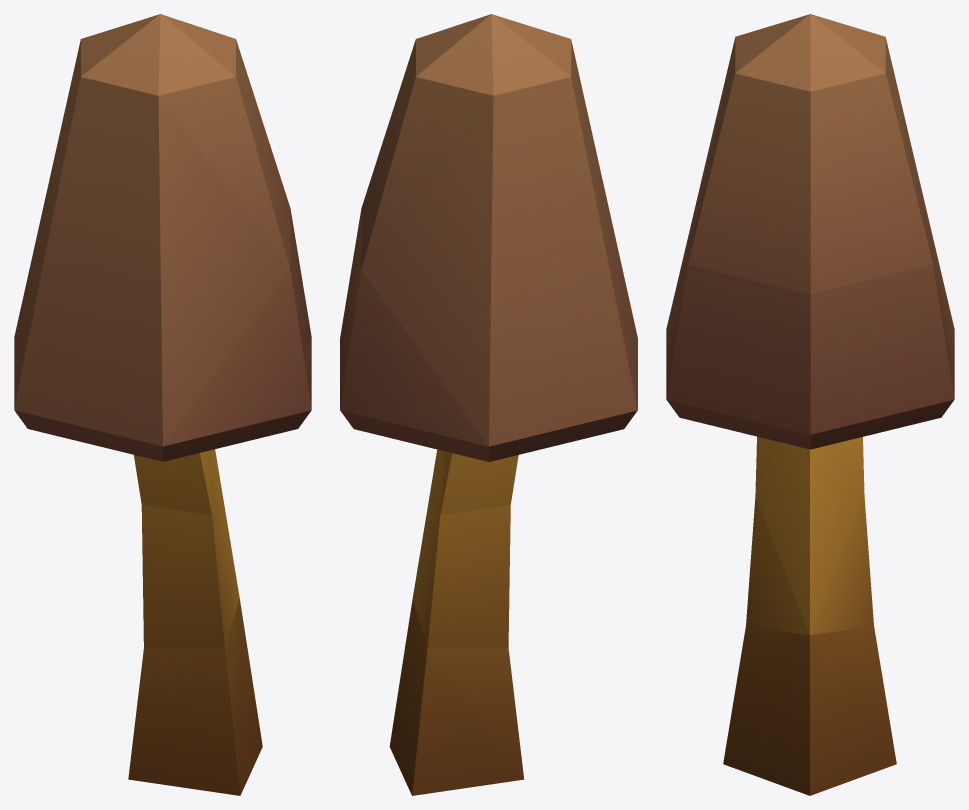
File: ZLP_Mushroom_A_11.FBX
The picture shows the model from 3 angles, left to right: view 1: azimuth 30°, elevation 25°; view 2: azimuth 150°, elevation 25°; view 3: azimuth 270°, elevation 25°; orthographic projection. The views are drawn at different scales.
Parts seen in each view (by area): view 1: ZLP_Mushroom_A_11; view 2: ZLP_Mushroom_A_11; view 3: ZLP_Mushroom_A_11.
Boxes of the visible parts, x1,y1,x2,y2 form: ZLP_Mushroom_A_11: (14,14,311,795); ZLP_Mushroom_A_11: (340,14,637,795); ZLP_Mushroom_A_11: (666,14,954,795).
Size of the model in its own units: 24.46 by 59.49 by 21.18.
